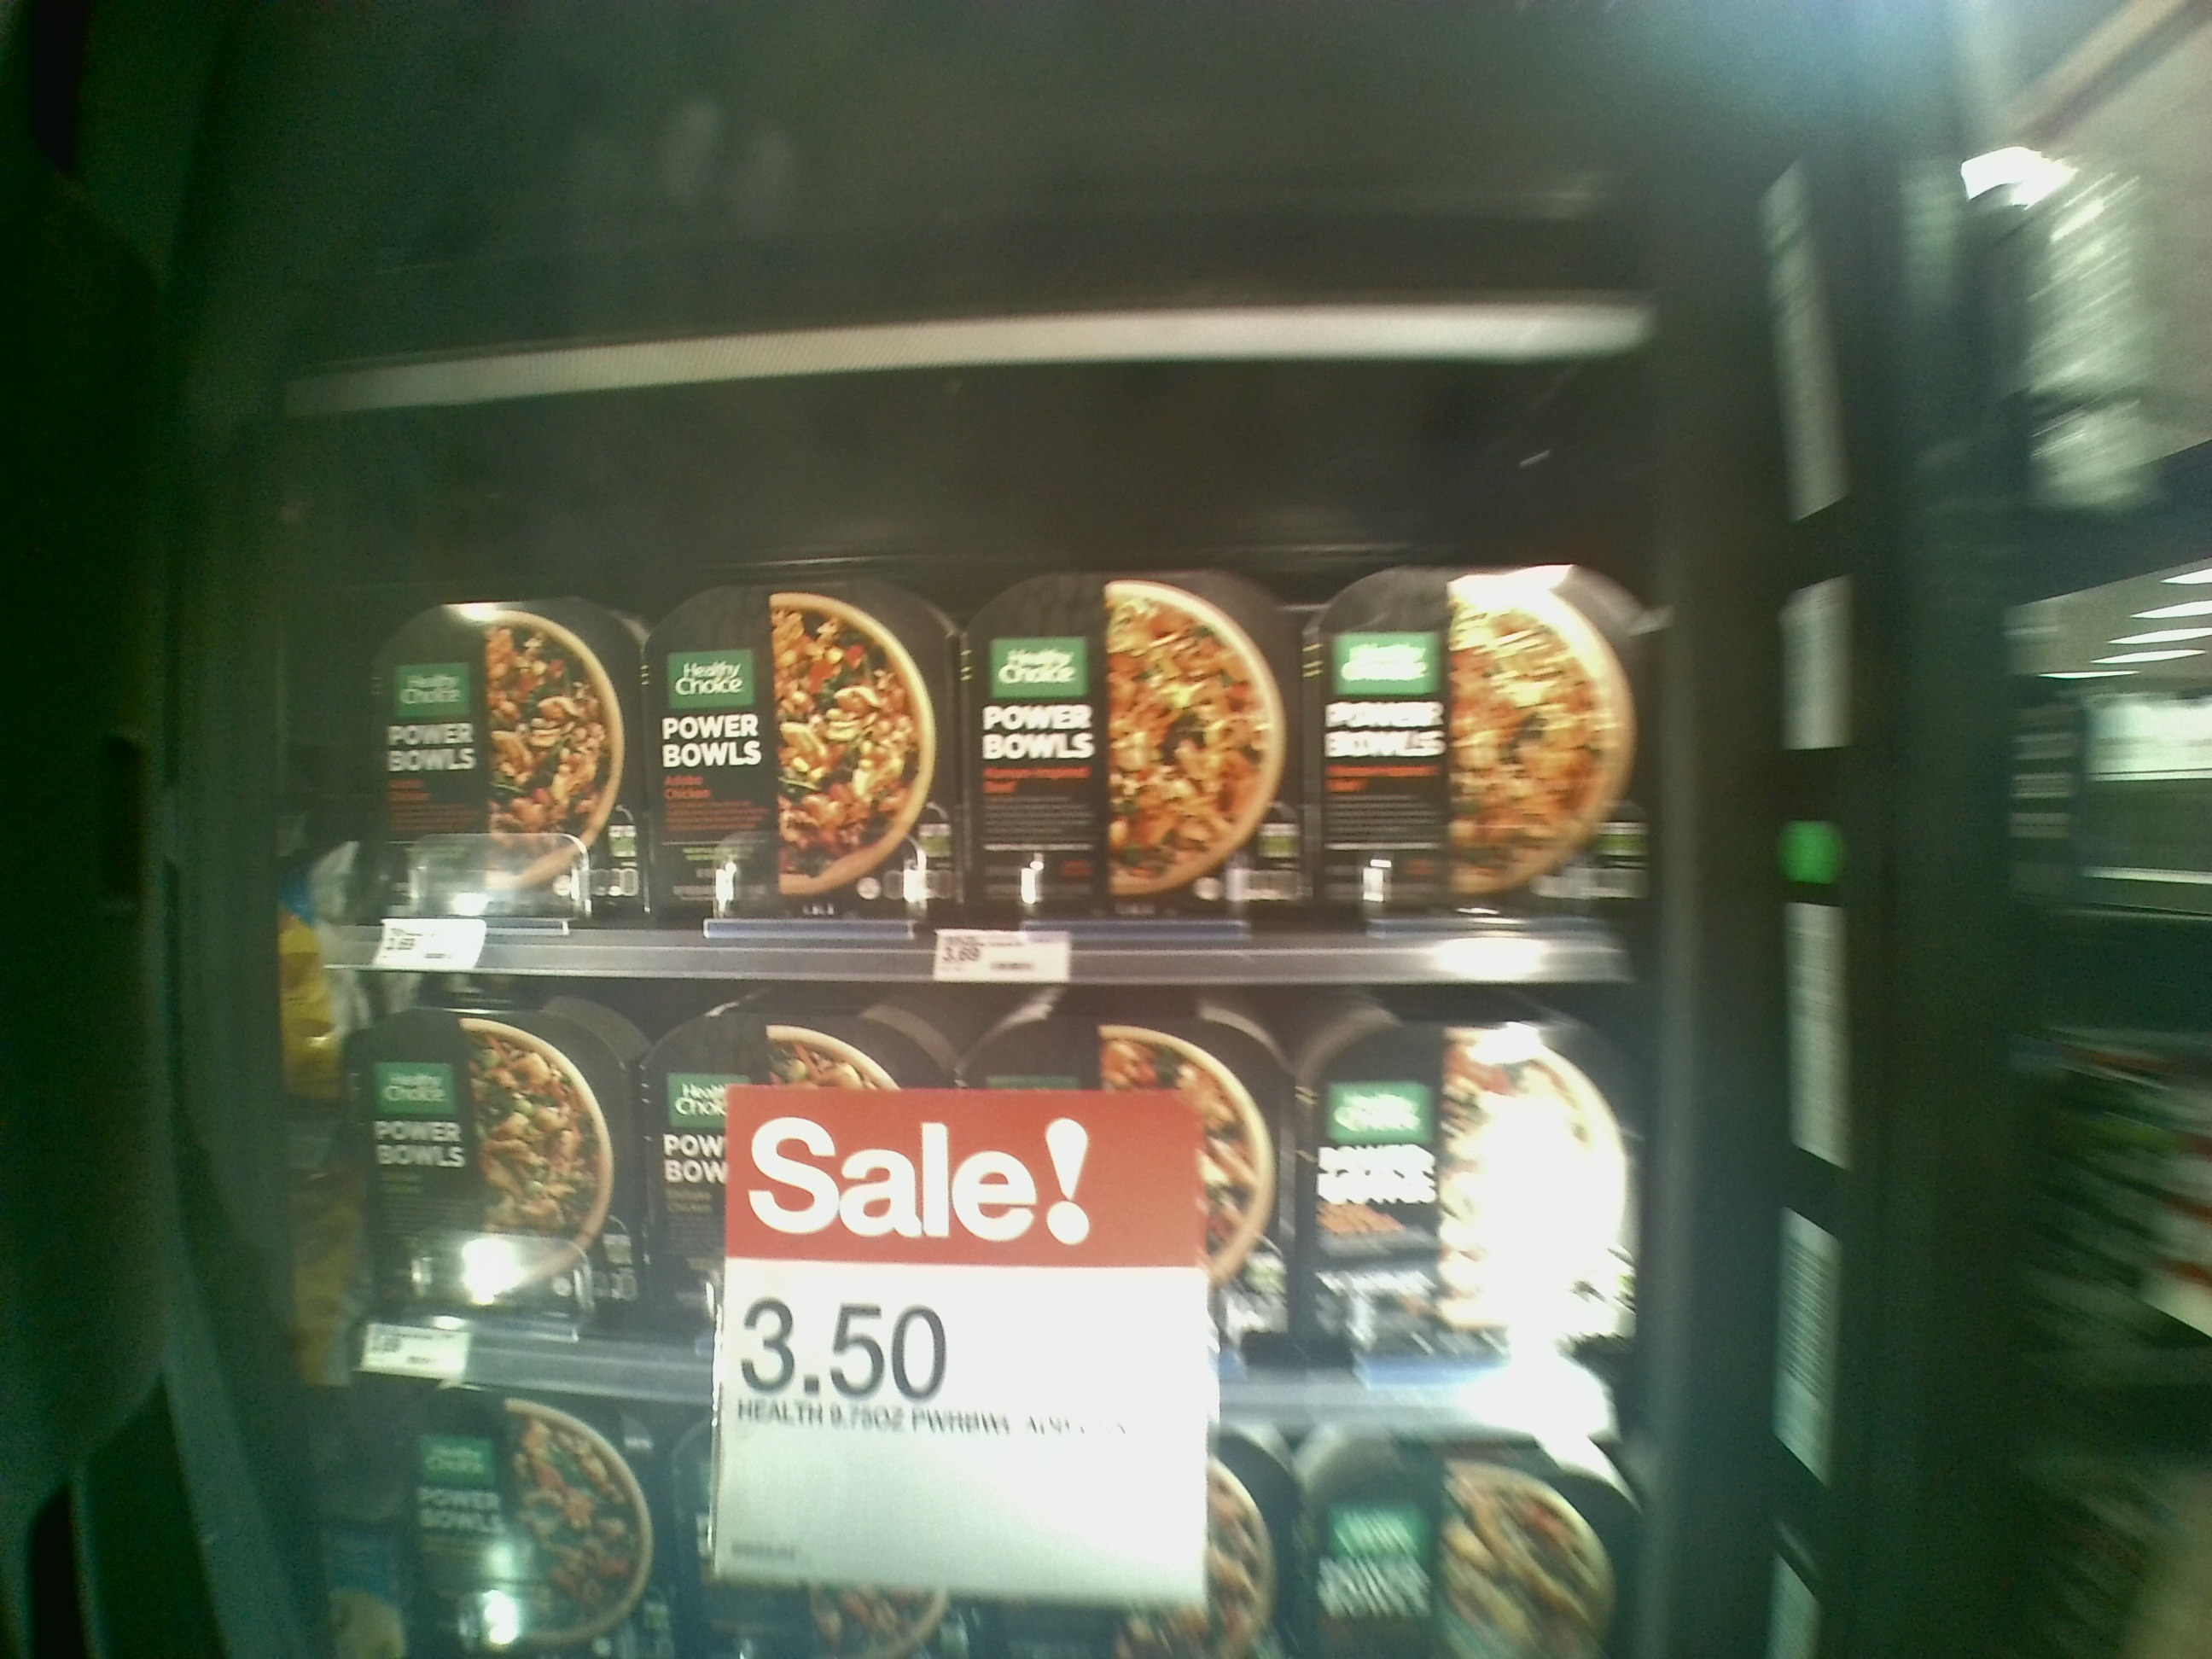shelf: (340, 425, 1637, 983), (338, 964, 1630, 1434)
